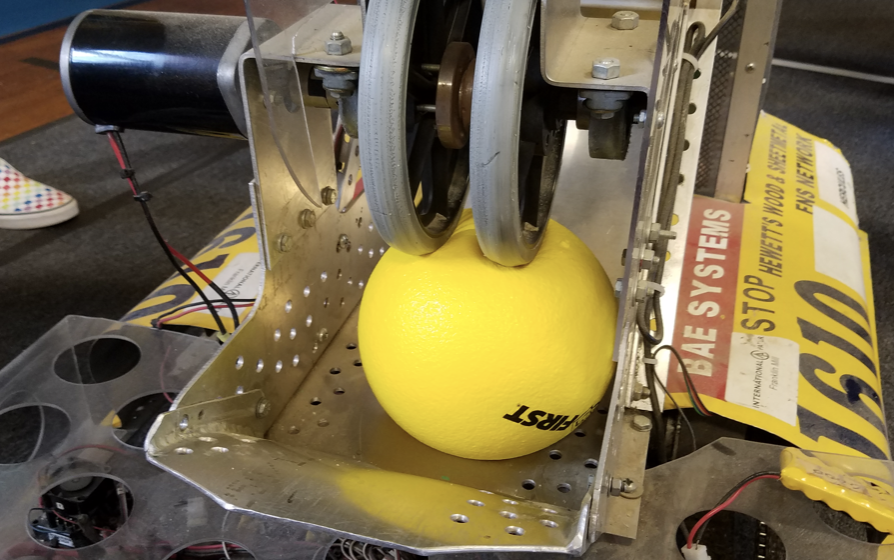powercell: (350, 219, 613, 457)
